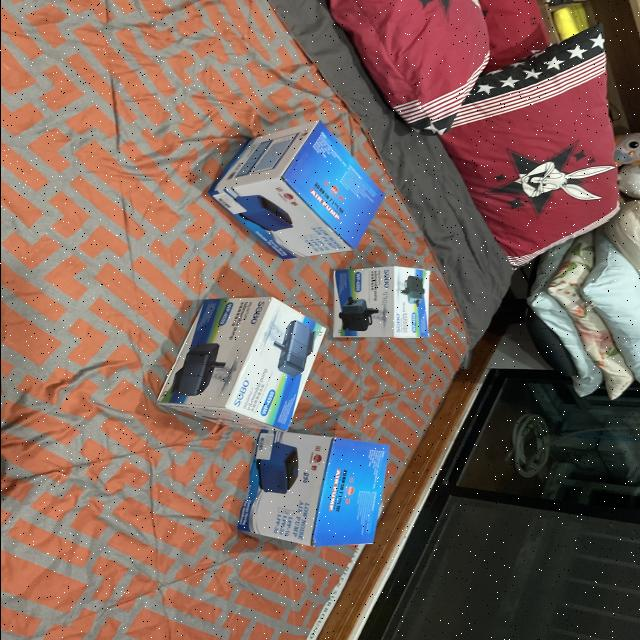SOBO_WP_4200: (147, 293, 340, 437), (320, 252, 448, 348)
YAMANO_LPP_20: (180, 99, 398, 268), (230, 418, 393, 572)
